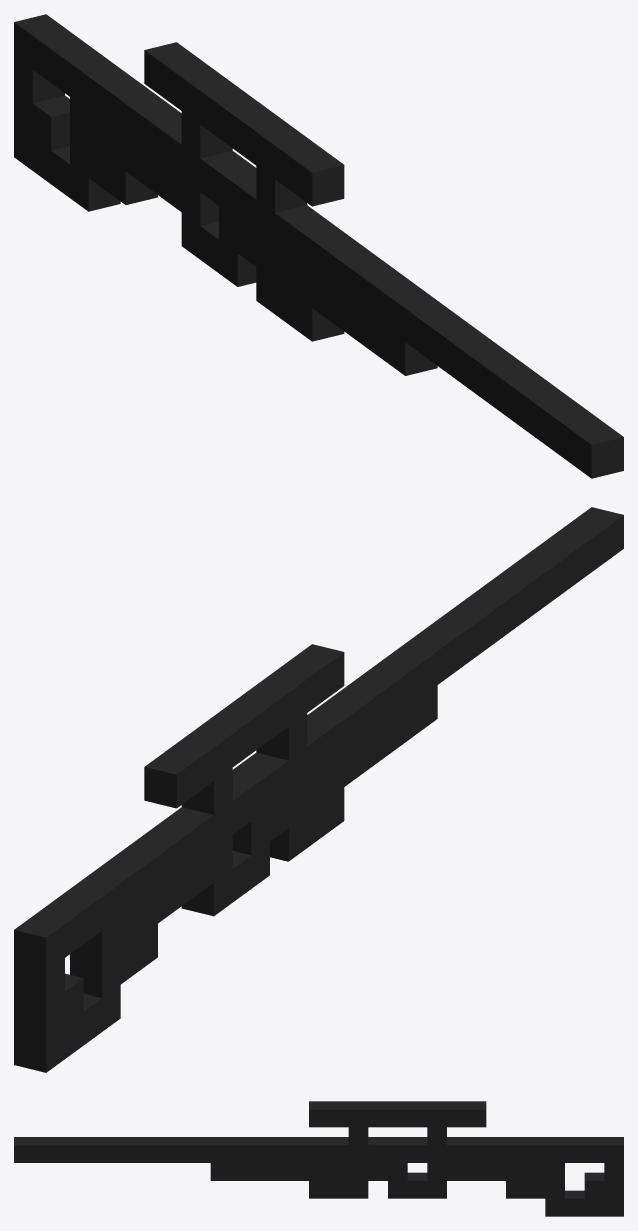
File: sniper_rifle.vox.obj
3 renders of one model, top to bottom at view 1: azimuth 30°, elevation 25°; view 2: azimuth 150°, elevation 25°; view 3: azimuth 270°, elevation 25°, orthographic. The views are drawn at different scales.
Size of the model in its own units: 0.1 by 0.6 by 3.1.
Materials: 1 (1 with a texture image).
